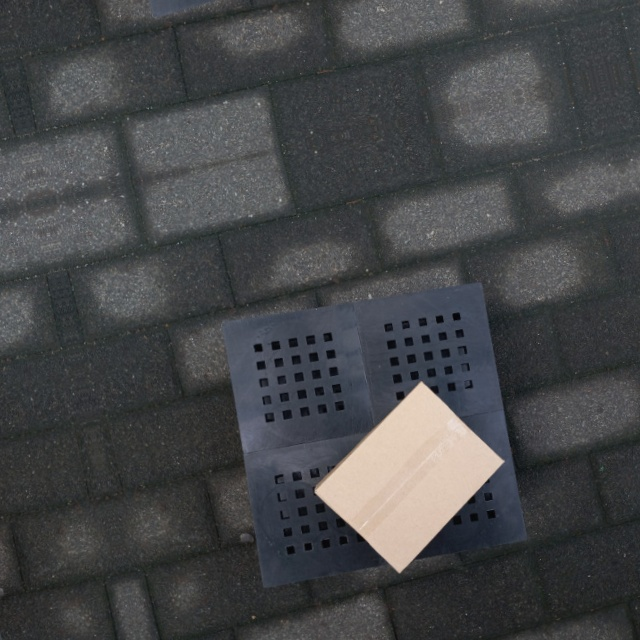box: (313, 373, 506, 577)
pallet: (213, 278, 526, 600)
